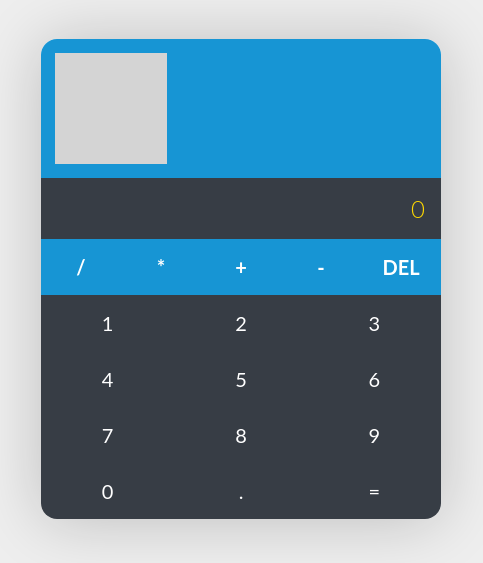
Test case: checks if subtraction functionality works
# get 2 button
What coordinates should you click on to do the following:
click the button "2"
I would click on:
 (241, 323)
Its box is [174,295,308,351].
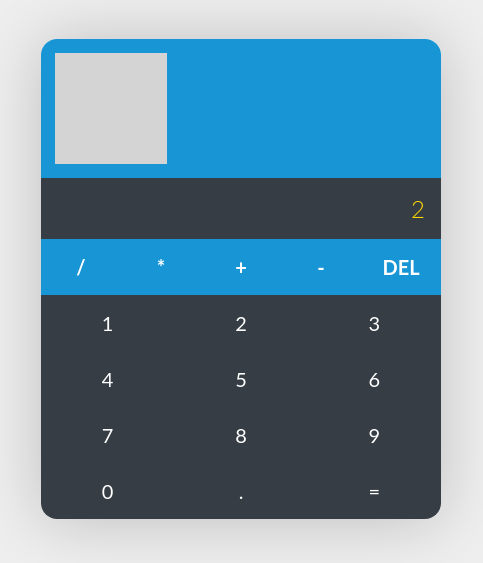
What coordinates should you click on to do the following:
click the button "-"
I would click on:
 (321, 267)
Its box is [281,239,361,295].
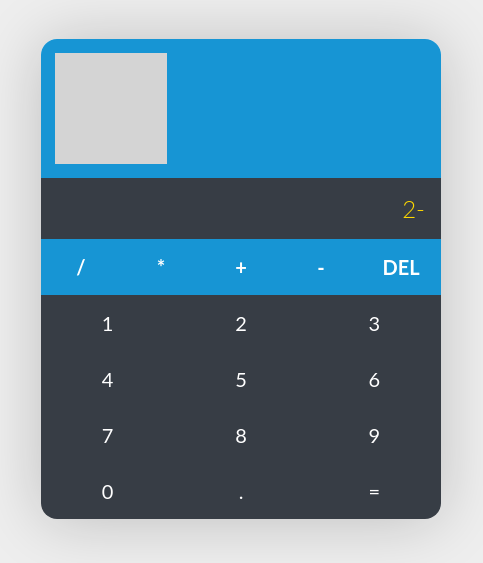
What coordinates should you click on to do the following:
click the button "2"
I would click on:
 (241, 323)
Its box is [174,295,308,351].
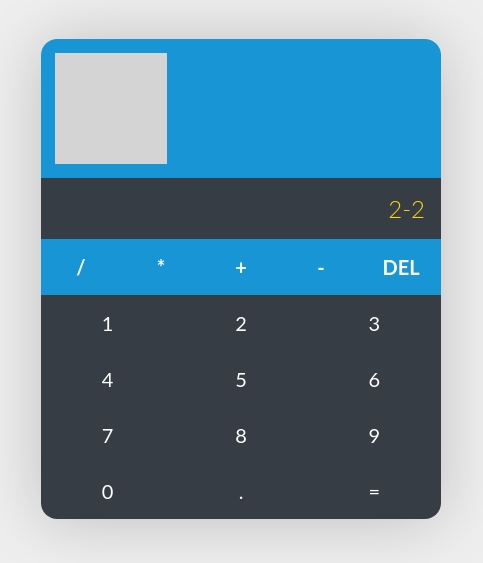
What coordinates should you click on to do the following:
click the button "="
I would click on:
 (374, 491)
Its box is [308,463,441,519].
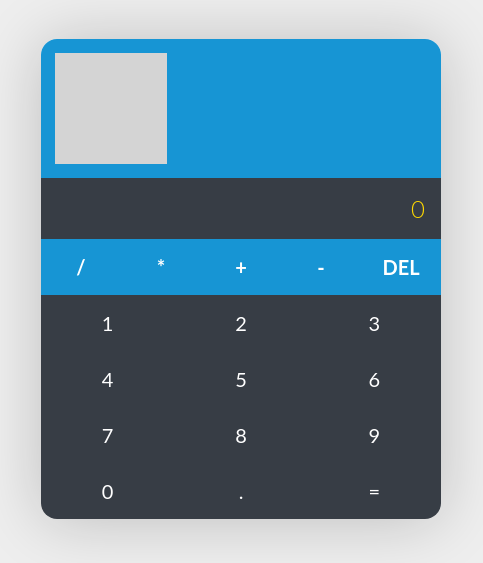
Now the text with class "display" reads "0", box [411,194,425,223]
